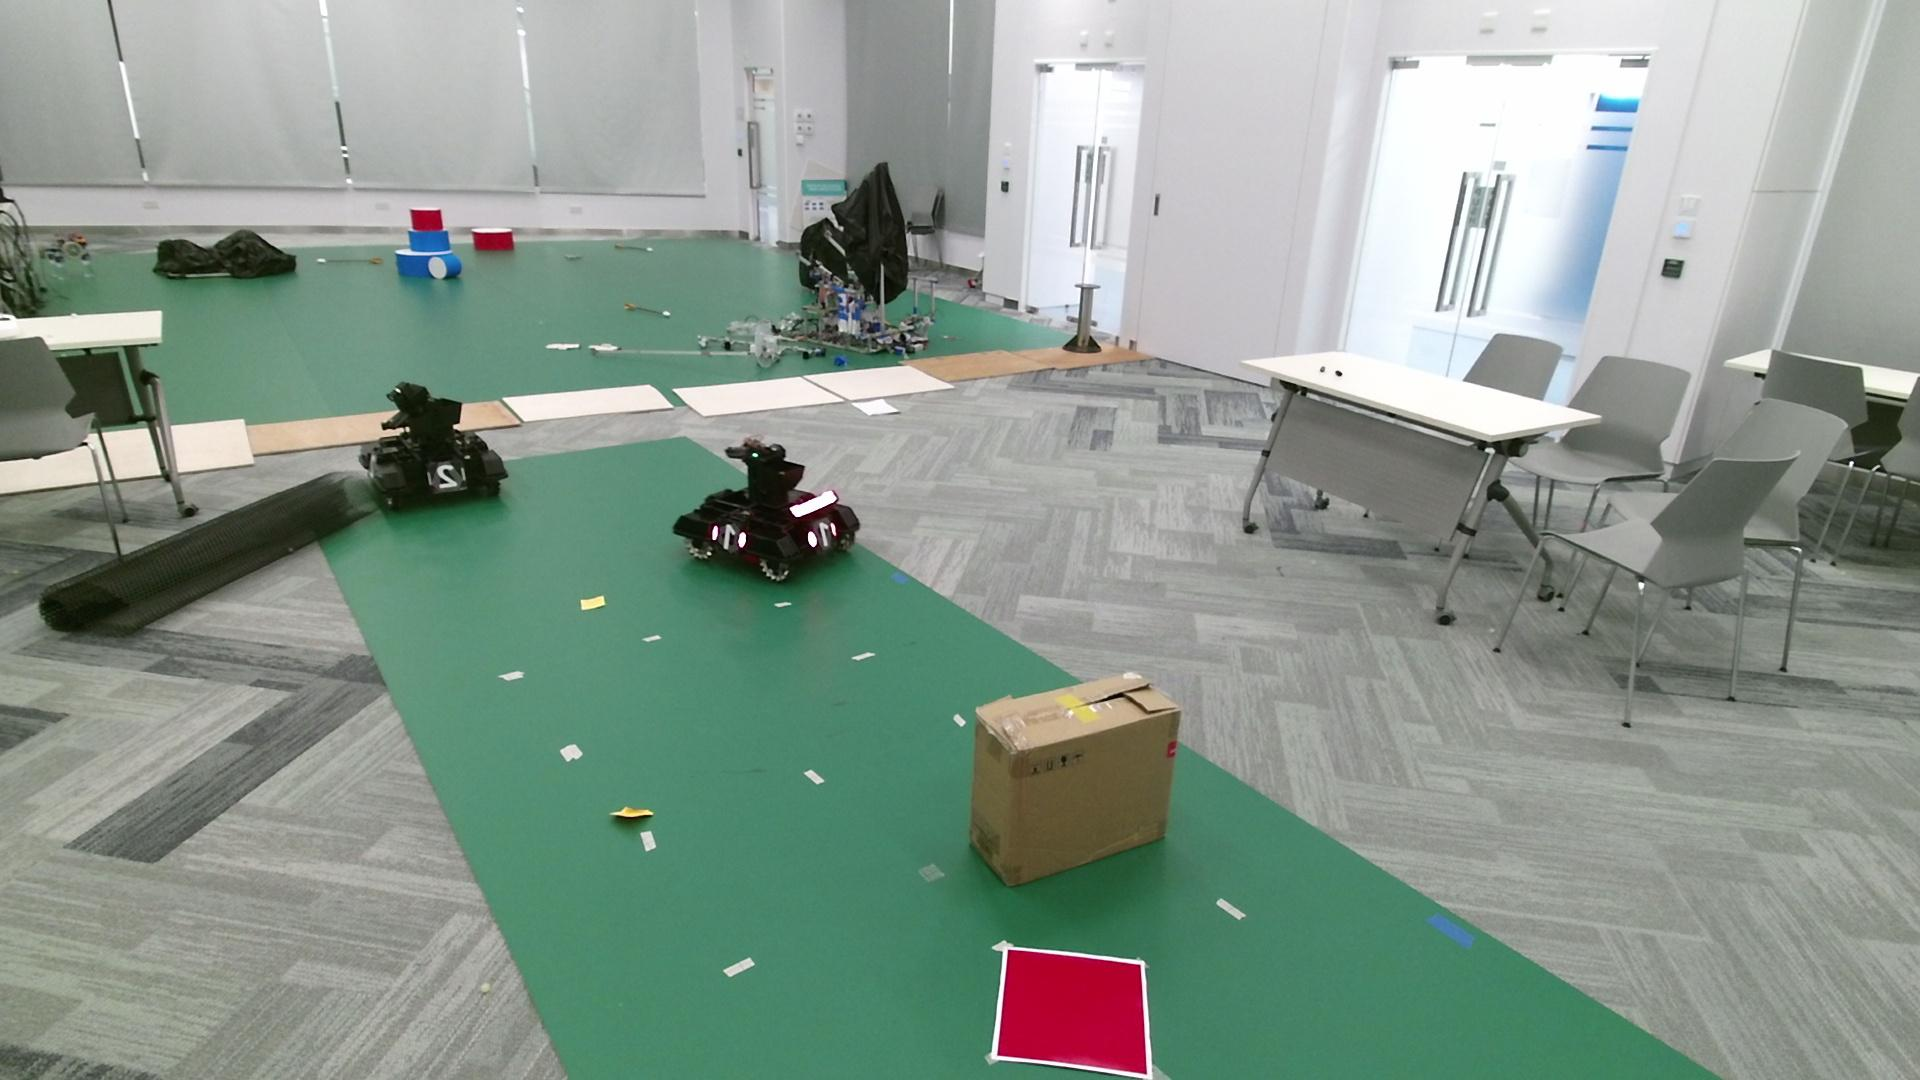robot: (673, 435, 860, 582), (357, 380, 509, 510)
